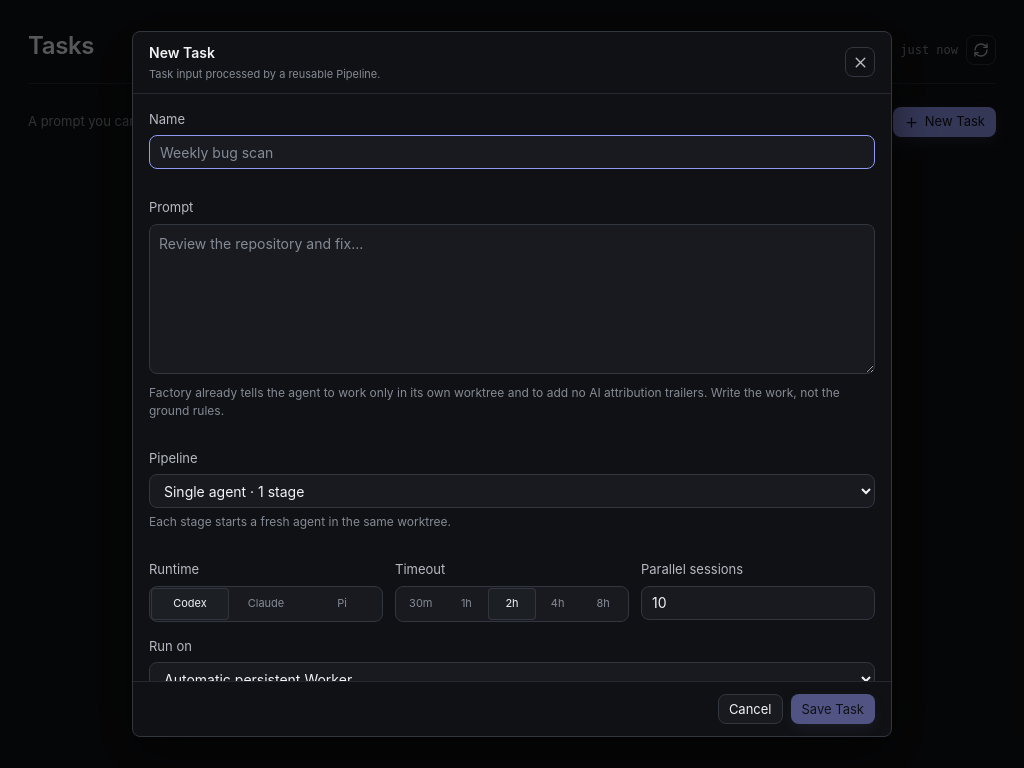
it: TasksView › blocks saving a multi-stage Pipeline with a cloud profile
Type "Cloud Pipeline" into the field labelled "Name" at (512, 152), box left=149, top=135, right=875, bottom=169
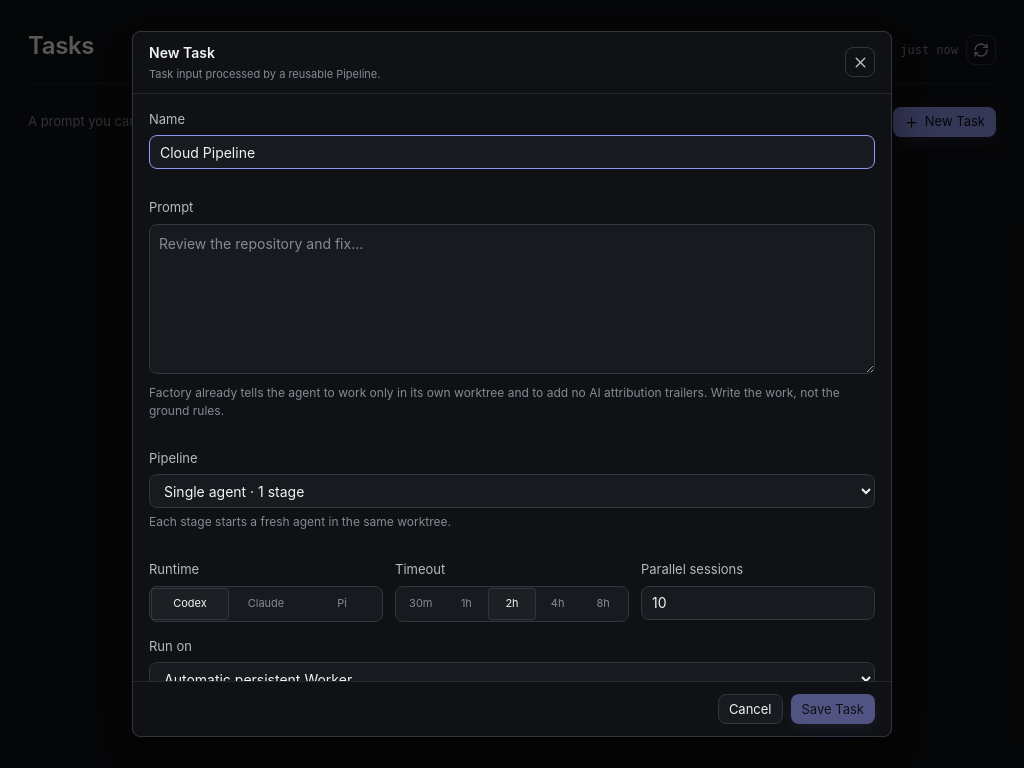
Type "Review the repository." into the text box labelled "Prompt" at (512, 299), box left=149, top=224, right=875, bottom=374
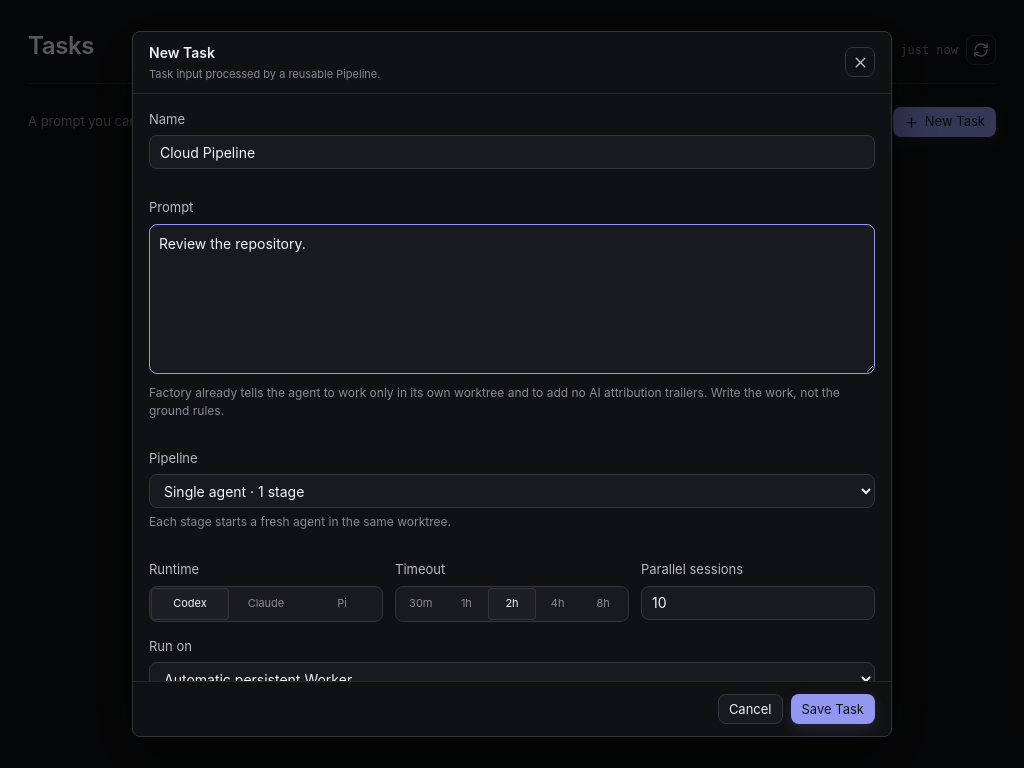
Select "Cloud Run test profile" in the dropdown labelled "Run on" at (512, 679), box left=149, top=662, right=875, bottom=696
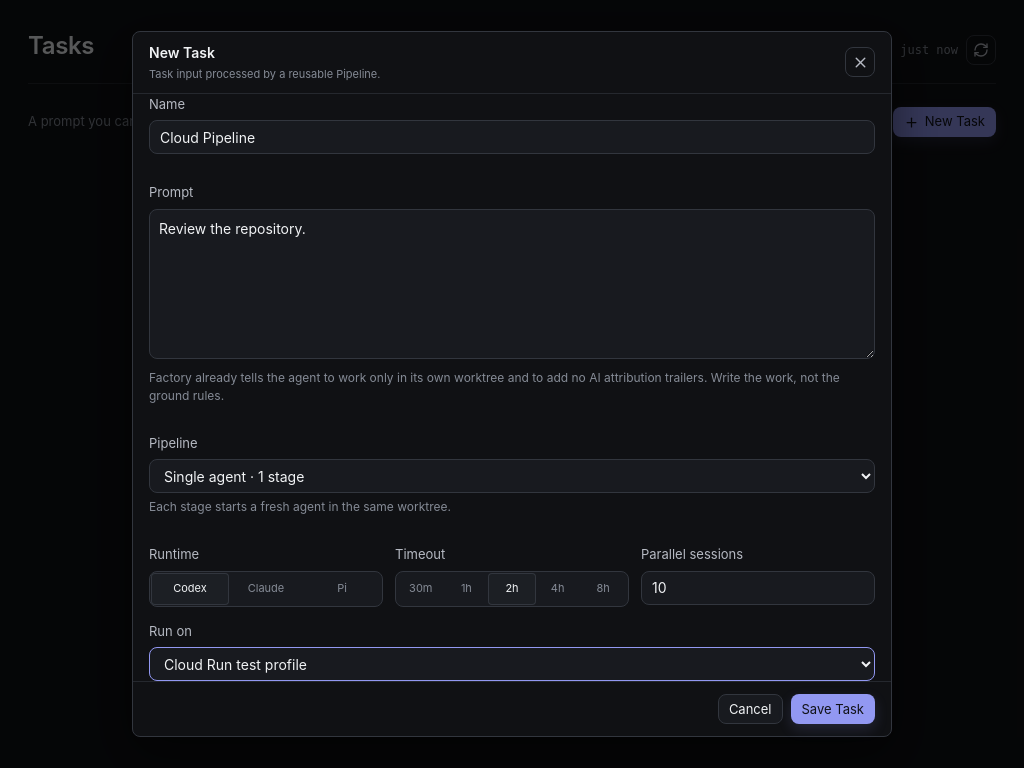
Select "Build and review · 2 stages" in the dropdown labelled "Pipeline" at (512, 476), box left=149, top=459, right=875, bottom=493
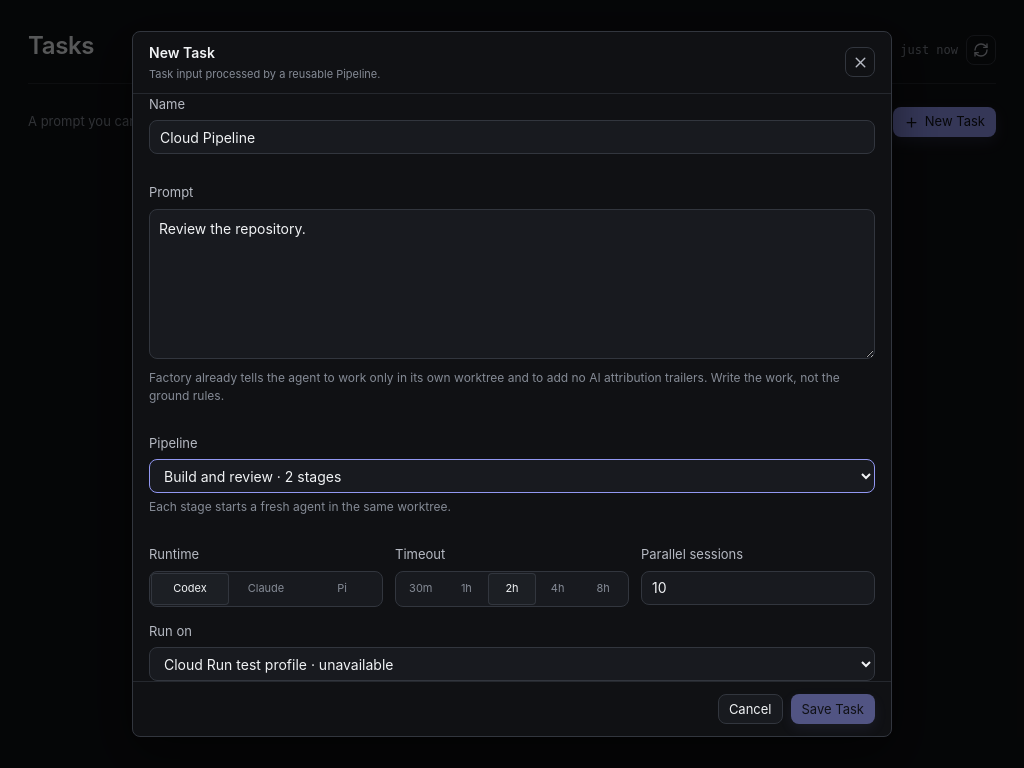
Expected: the button "Save Task" is disabled, left=790, top=694, right=875, bottom=724
